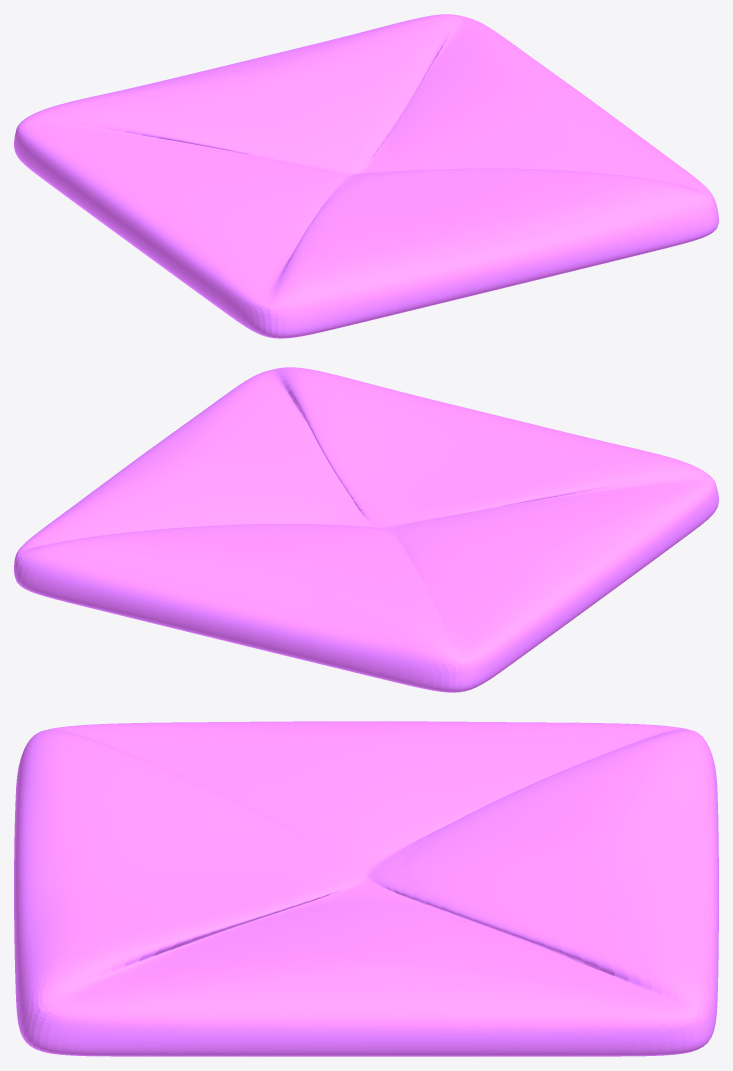
Rendered from Ttakji.fbx.
The picture shows the model from 3 angles, top to bottom: view 1: azimuth 30°, elevation 25°; view 2: azimuth 150°, elevation 25°; view 3: azimuth 270°, elevation 25°; orthographic projection. The views are drawn at different scales.
Parts seen in each view (by area): view 1: Cube; view 2: Cube; view 3: Cube.
Part boxes in pixels (x1,y1,x2,y2): Cube: (14,14,718,338); Cube: (14,367,718,692); Cube: (14,721,718,1056).
Size of the model in its own units: 127 by 13.6 by 126.
